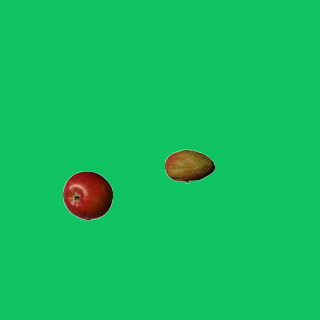Apple Braeburn: (62, 170, 112, 220)
Papaya: (164, 141, 214, 191)
